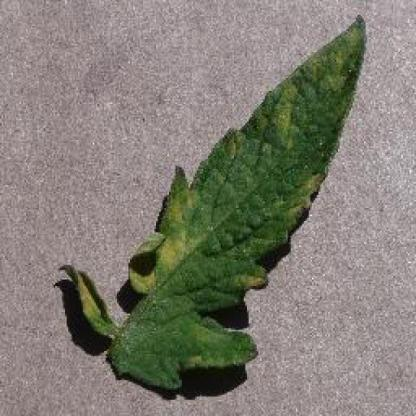Strawberry_Anthracnose_Fruit_Rot: (156, 229, 194, 270), (270, 92, 307, 133), (166, 192, 200, 219)
